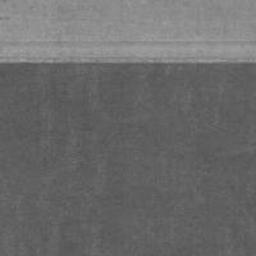Welding line: (0, 55, 256, 65)
